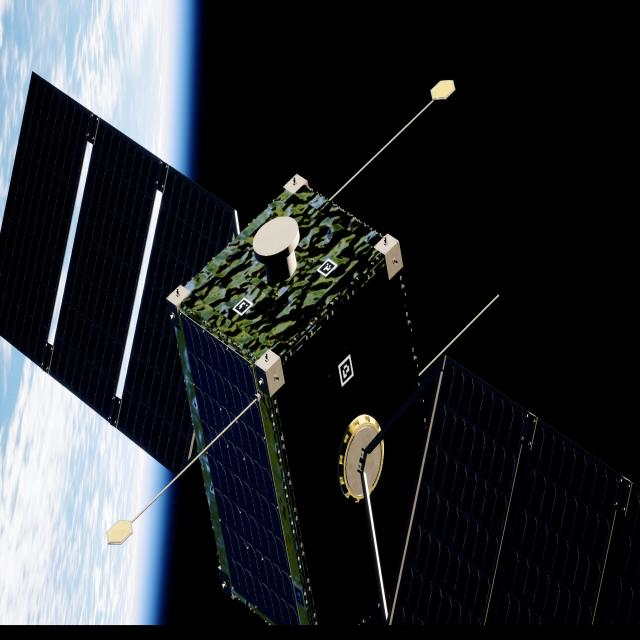medium_debris: (0, 75, 640, 640)
